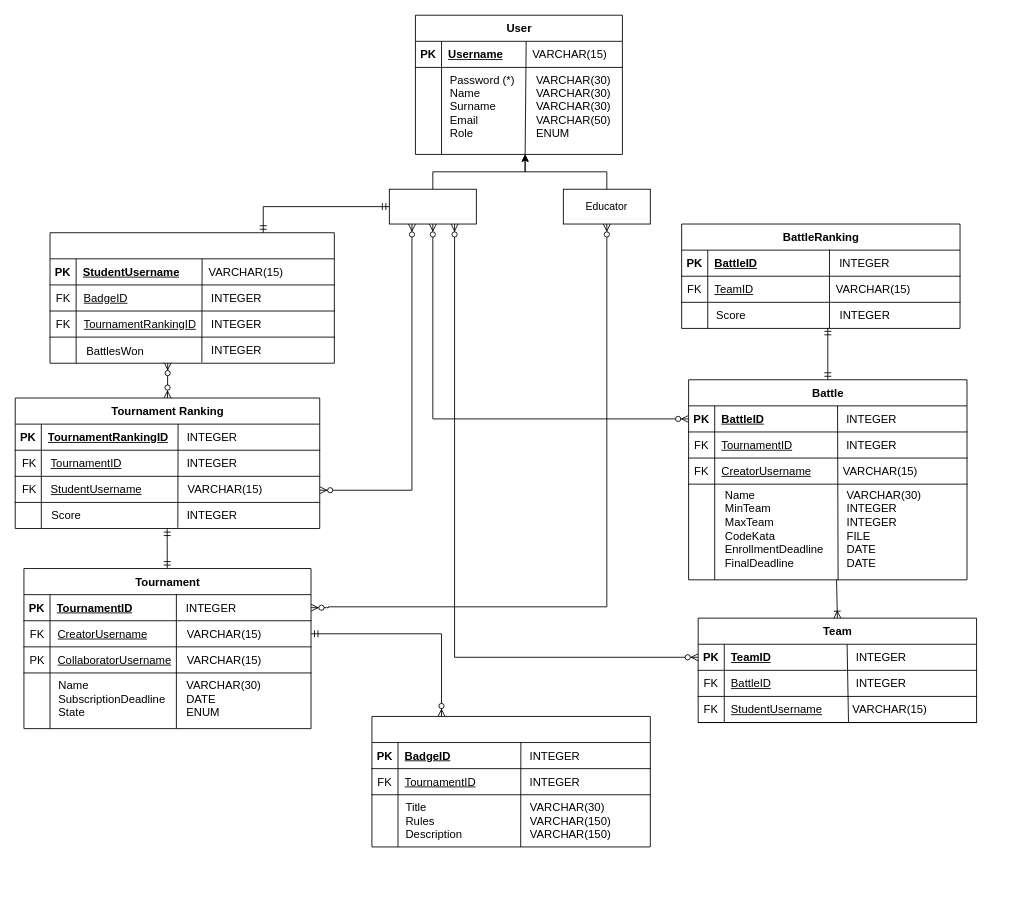
Some shapes in this 1023 by 900 pixel diagram are drawn without their labels. Here are the shapes that lost their labels. From the top down, the box of each, then its label:
(388, 188, 476, 224): Student
(49, 232, 334, 363): Student's profile
(371, 716, 650, 847): Badges
